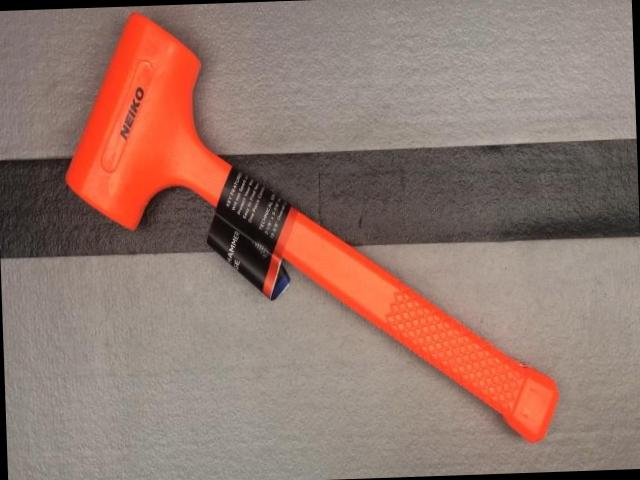hammer: (60, 1, 562, 458)
